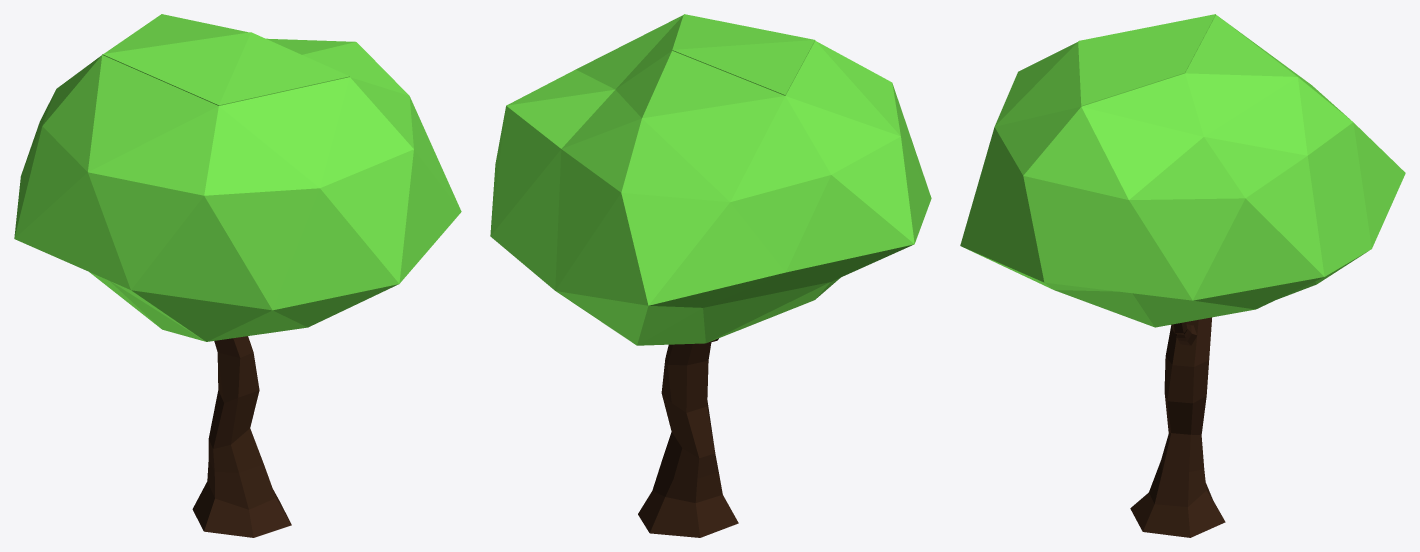
Rendered from Tree.fbx.
3 renders of one model, left to right at view 1: azimuth 30°, elevation 25°; view 2: azimuth 150°, elevation 25°; view 3: azimuth 270°, elevation 25°, orthographic. The views are drawn at different scales.
Visible parts, largest first — view 1: tree; view 2: tree; view 3: tree.
Boxes of the visible parts, <box> form: tree: <box>14,14,461,537</box>; tree: <box>490,14,931,537</box>; tree: <box>960,14,1405,537</box>.
Size of the model in its own units: 1614 by 1770 by 1586.
